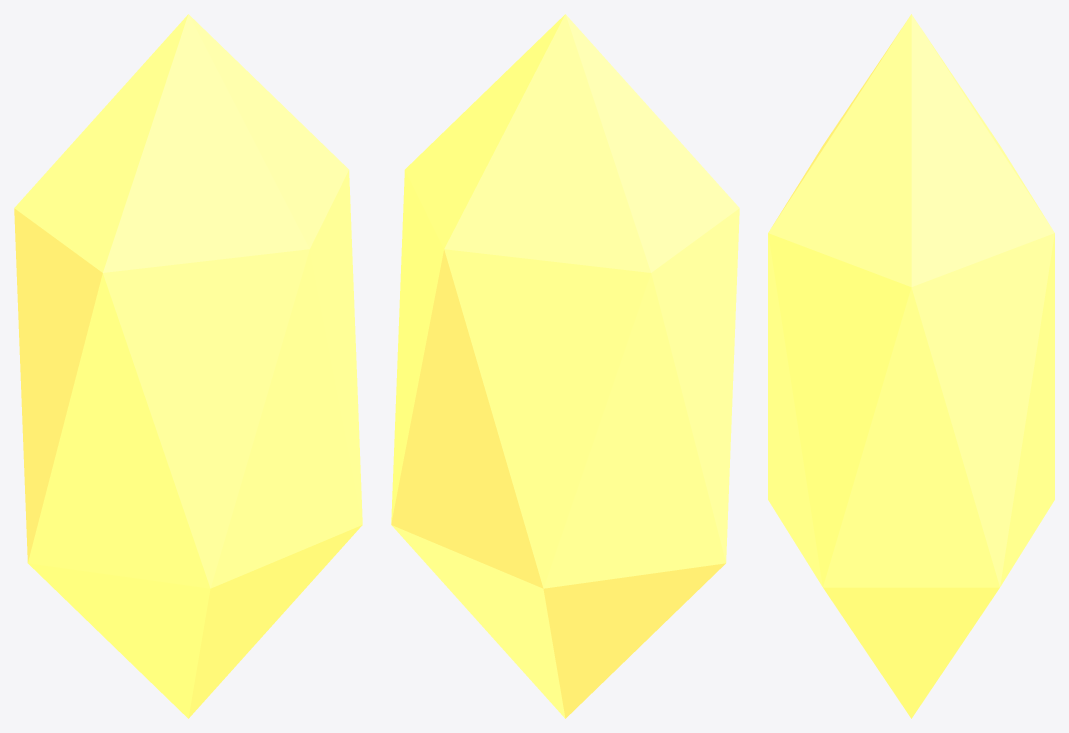
The model's file is spark_hot.glb.
The picture shows the model from 3 angles, left to right: view 1: azimuth 30°, elevation 25°; view 2: azimuth 150°, elevation 25°; view 3: azimuth 270°, elevation 25°; orthographic projection.
Visible parts, largest first — view 1: Angular energy fragment; view 2: Angular energy fragment; view 3: Angular energy fragment.
Part boxes in pixels (x1,y1,x2,y2): Angular energy fragment: [14, 14, 362, 718]; Angular energy fragment: [391, 14, 739, 718]; Angular energy fragment: [768, 14, 1054, 718].
Size of the model in its own units: 0.2147 by 0.45 by 0.1659.
